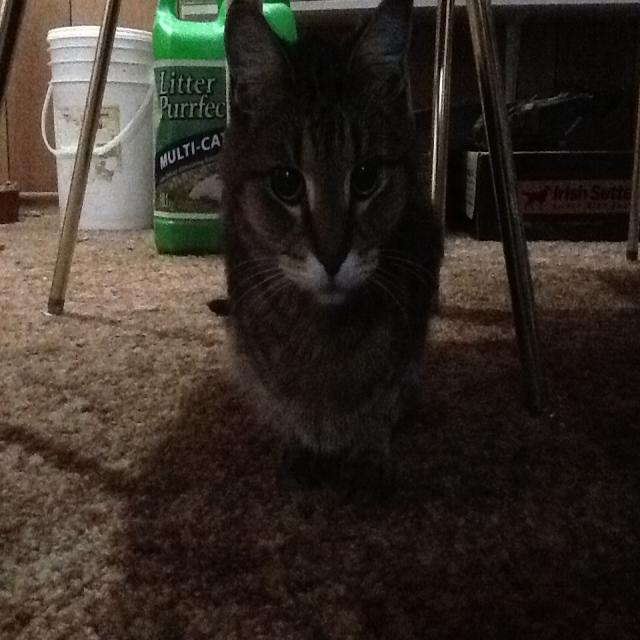Cat: (214, 0, 446, 500)
